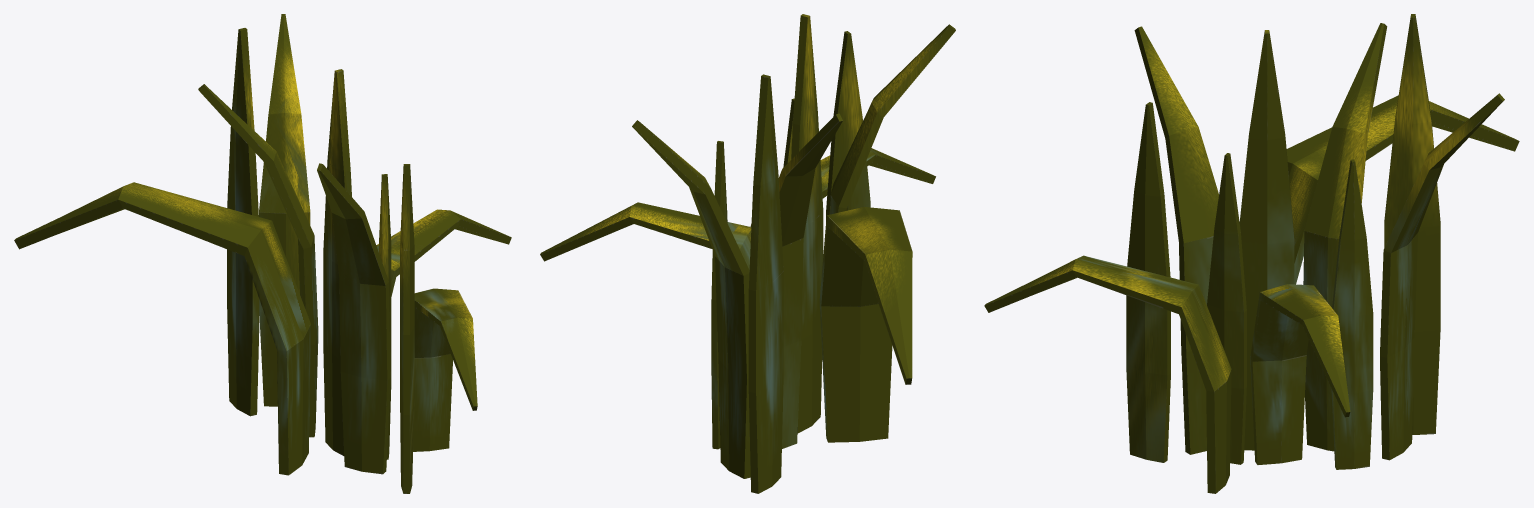
File: MATA 03.fbx
3 renders of one model, left to right at view 1: azimuth 30°, elevation 25°; view 2: azimuth 150°, elevation 25°; view 3: azimuth 270°, elevation 25°, orthographic. The views are drawn at different scales.
Visible parts, largest first — view 1: Cube.030; view 2: Cube.030; view 3: Cube.030.
Boxes of the visible parts, x1,y1,x2,y2 form: Cube.030: (14, 14, 511, 493); Cube.030: (540, 14, 955, 493); Cube.030: (984, 14, 1519, 493).
Size of the model in its own units: 320 by 277 by 321.
Materials: 1 (1 with a texture image).
